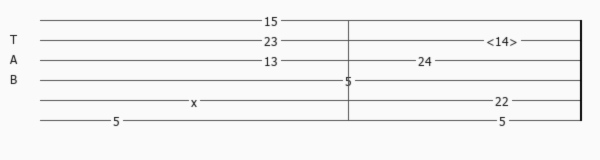13: (264, 54, 282, 67)
15: (264, 14, 282, 27)
22: (495, 94, 513, 107)
23: (264, 34, 282, 47)
24: (418, 54, 436, 67)
5: (113, 114, 124, 127), (345, 74, 356, 87), (499, 114, 510, 127)
harmonic: (486, 34, 522, 47)
x: (191, 95, 201, 106)
